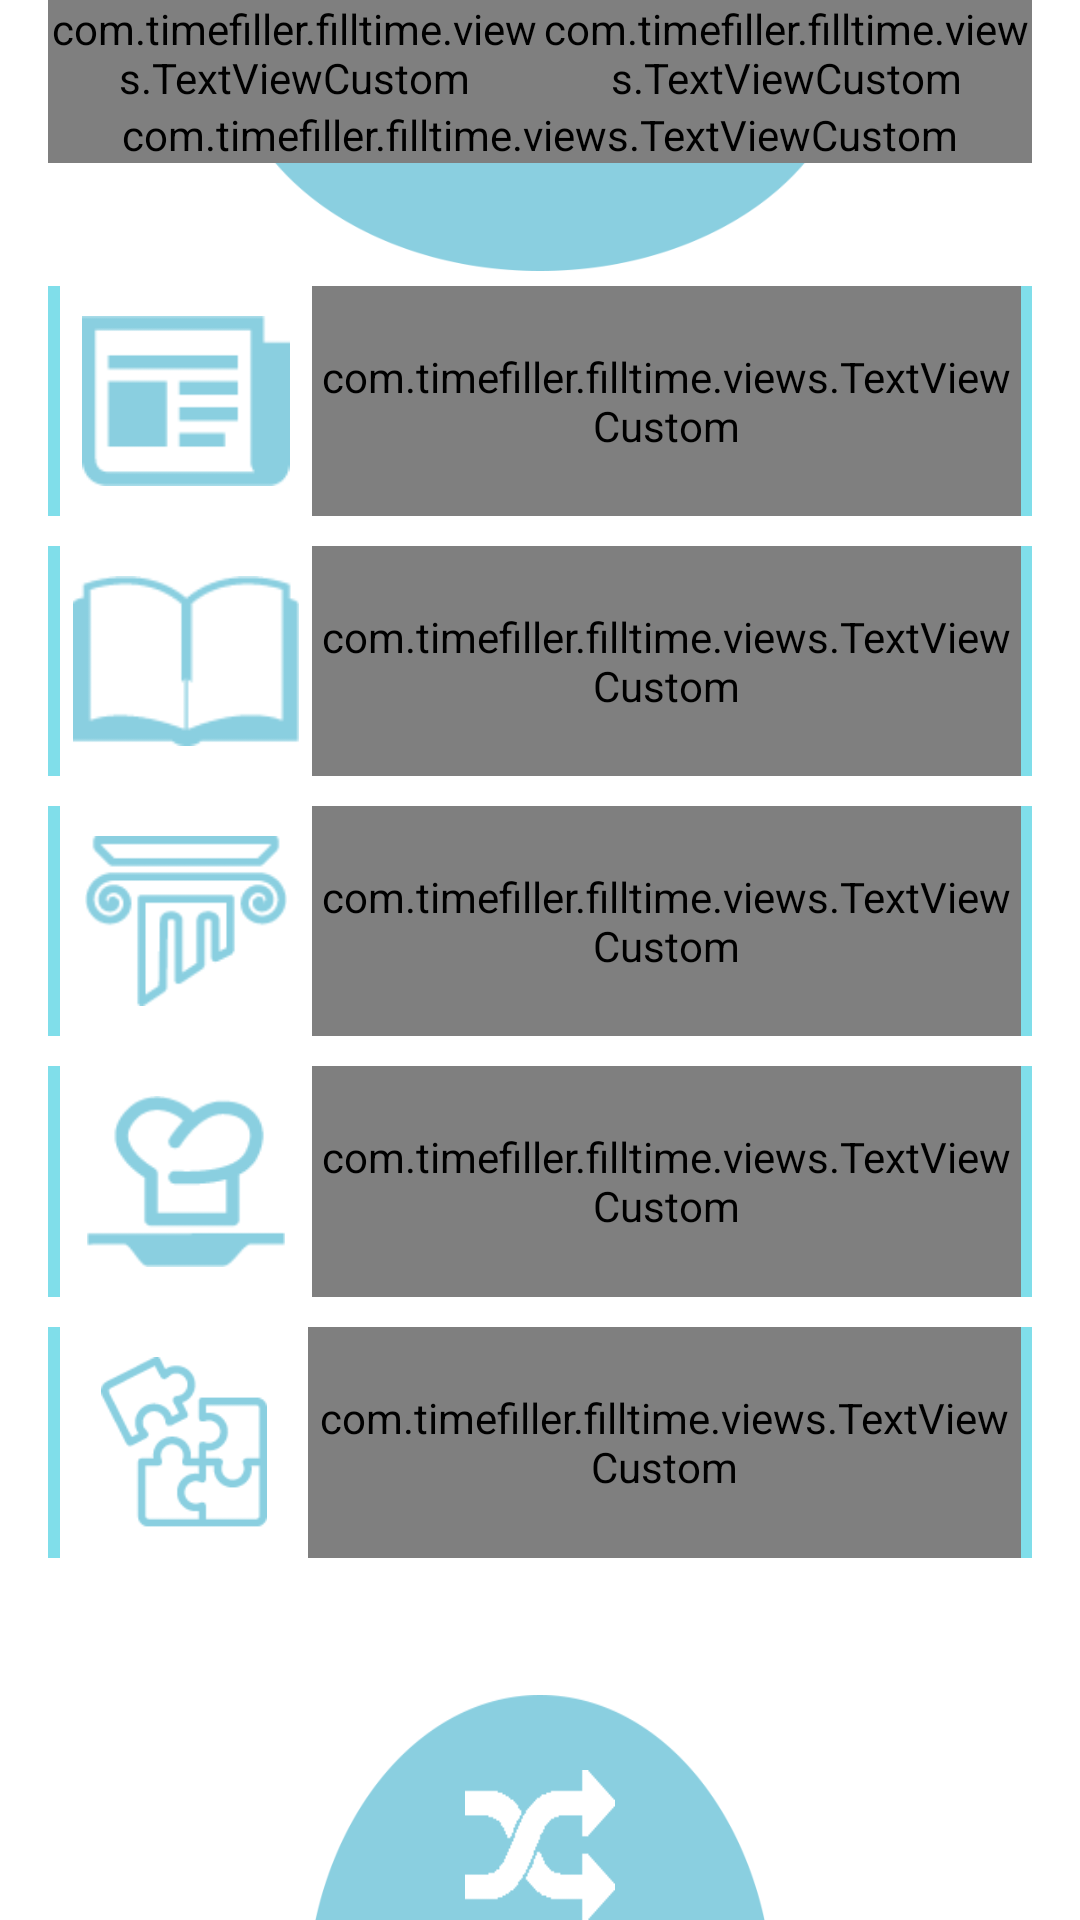

Icons on this 1080px×1920px Android screen, each with the point to tap as (x,y):
book: (186,661)
culture: (186,921)
food: (186,1181)
games: (184,1442)
news: (186,401)
random: (540,1845)
